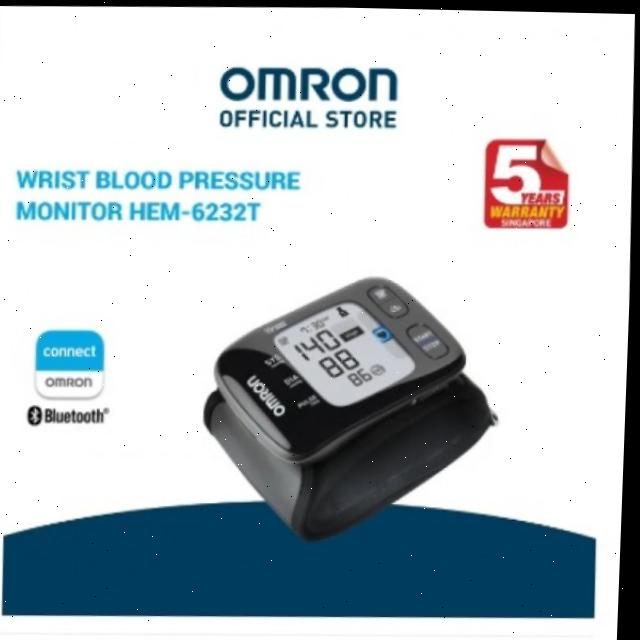dia: (315, 340, 367, 382)
pul: (347, 360, 380, 389)
ssd: (276, 279, 420, 424)
sys: (289, 319, 348, 365)
